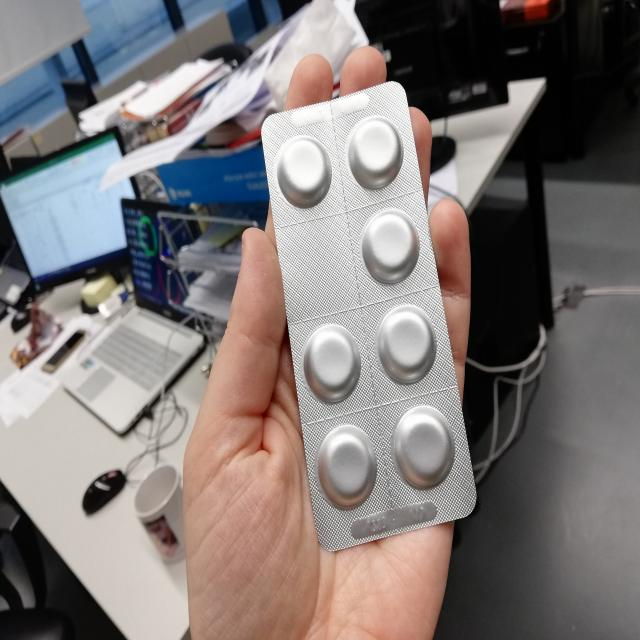Pill: (389, 402, 455, 493), (313, 423, 379, 513), (300, 318, 362, 408), (376, 300, 438, 387), (358, 205, 422, 288), (274, 128, 332, 209), (345, 113, 403, 193)
